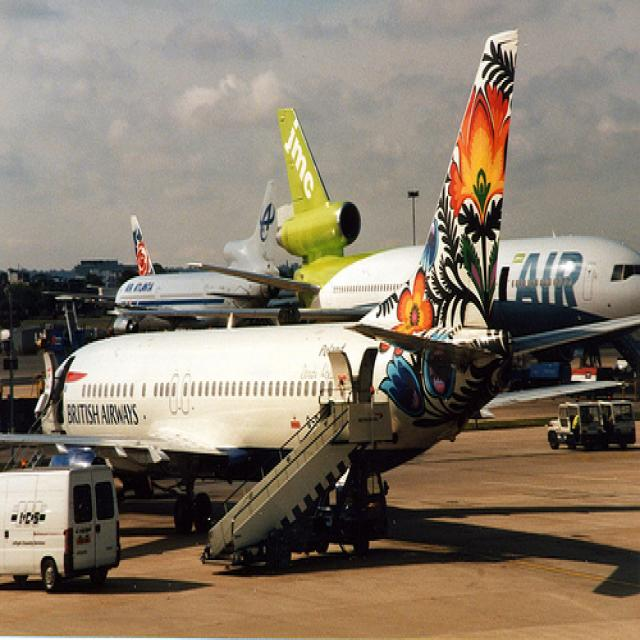aeroplane: (31, 26, 525, 466), (272, 100, 640, 325), (113, 177, 282, 316)
car: (1, 464, 120, 589)
